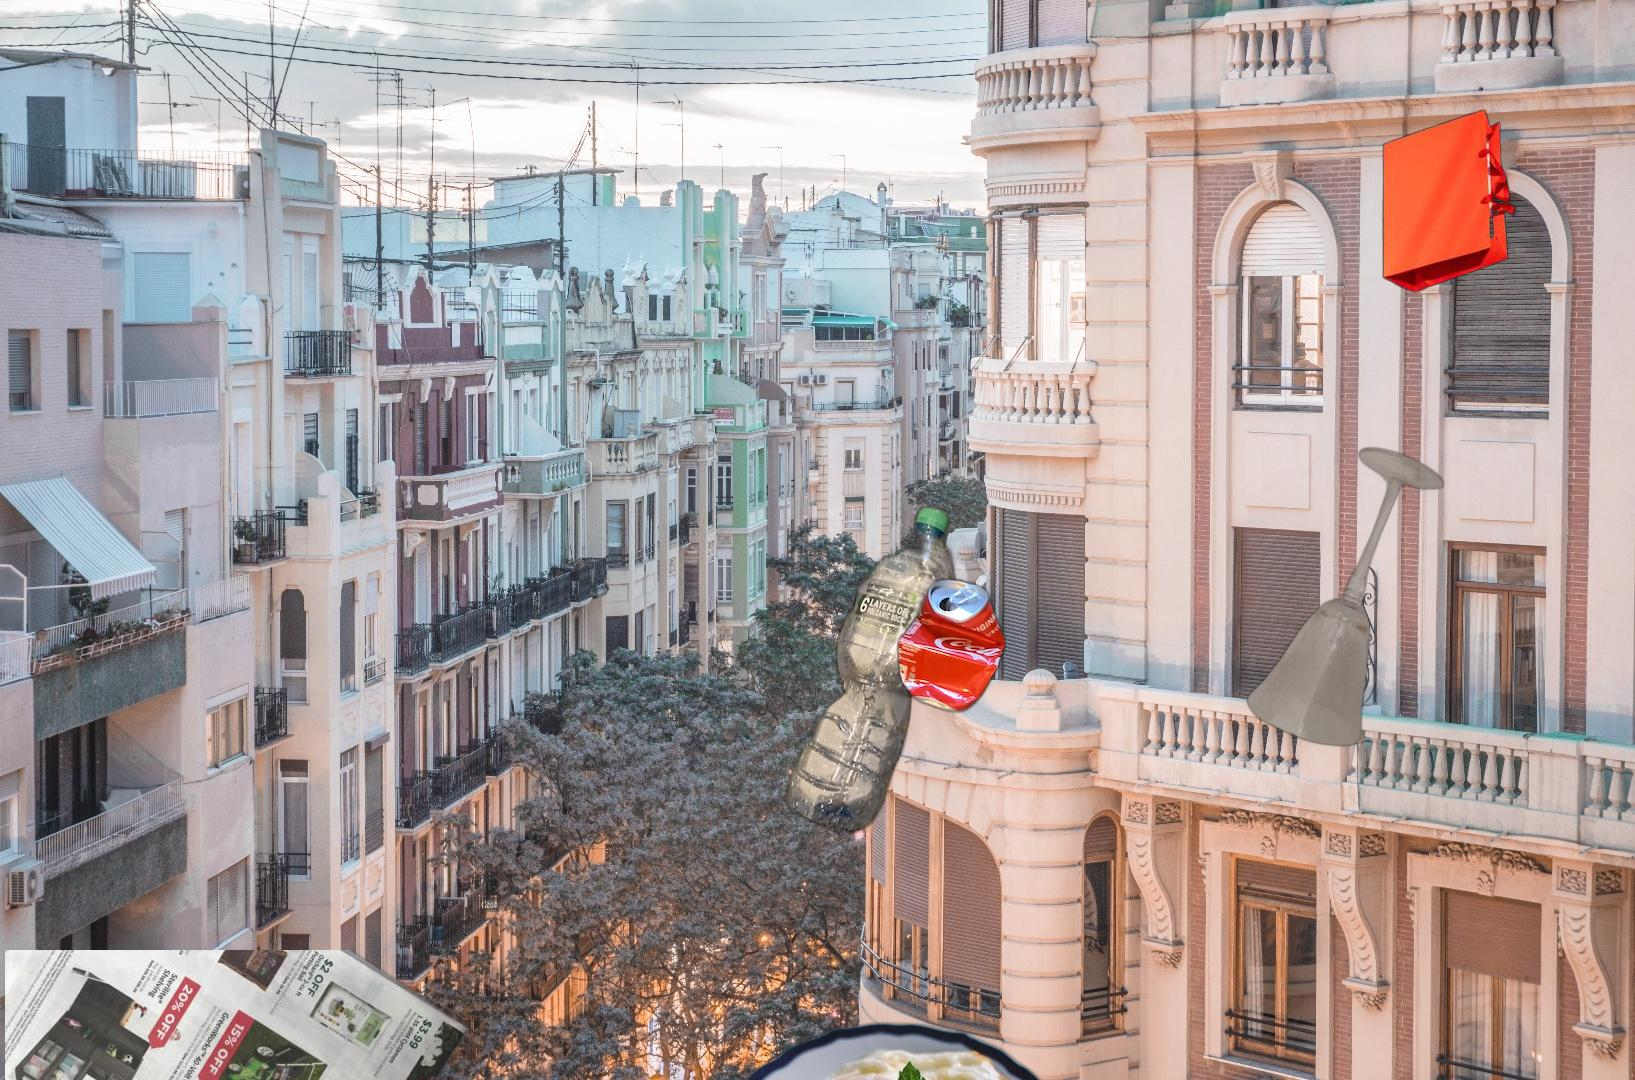biological: (464, 1019, 1087, 1080)
glass: (1243, 445, 1448, 750)
metal-cans: (893, 573, 1011, 719)
paper: (5, 950, 475, 1080)
paper-bag: (1380, 107, 1523, 293)
plastic-bottles: (783, 501, 961, 840)
